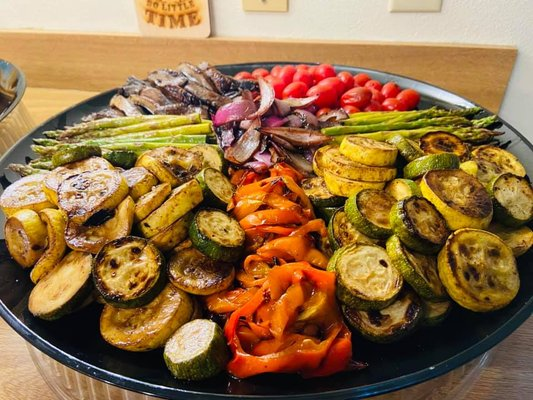pasta: (98, 282, 194, 353)
